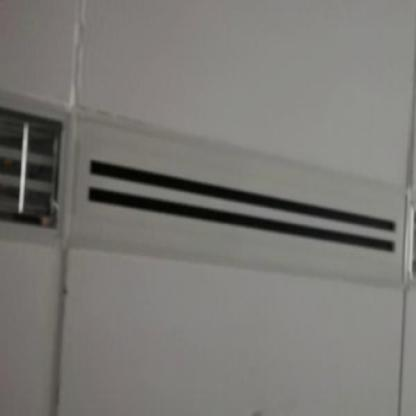light_off: (0, 70, 81, 262)
